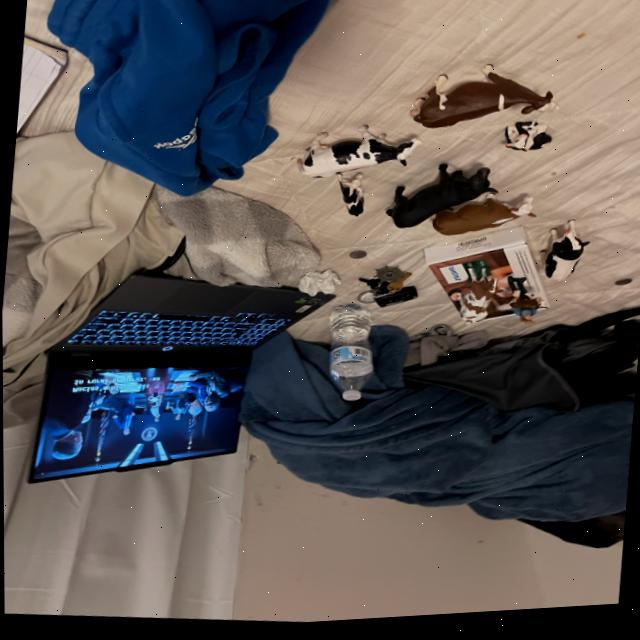cow: (406, 66, 554, 137), (377, 154, 498, 239), (293, 123, 423, 184), (428, 193, 524, 251), (529, 220, 594, 293), (448, 276, 509, 334), (503, 125, 552, 160), (508, 294, 552, 325), (335, 176, 364, 222)
person: (509, 314, 537, 331)
